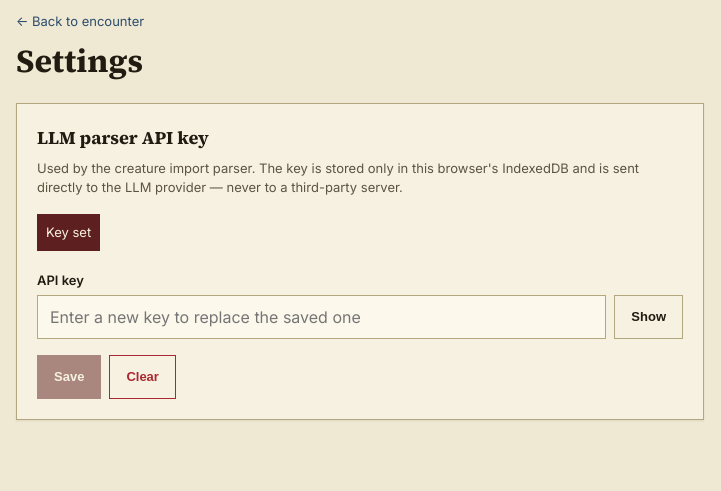
it: settings page — Clear › Clear with confirm=true removes the key and shows success feedback
Expected: the text "Key set" is shown, [37,214,100,251]
Click the button "Clear": (143,377) [109,355,176,399]
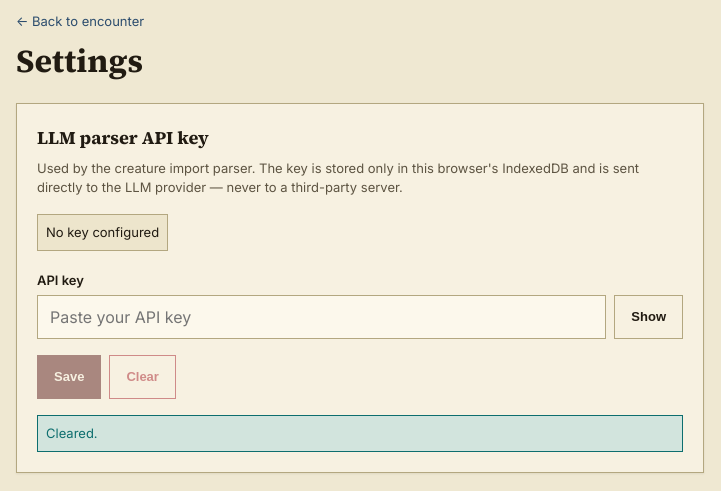
Result: the text "Cleared." is shown at [37,415,683,452]
Result: the text "No key configured" is shown at [37,214,168,251]
